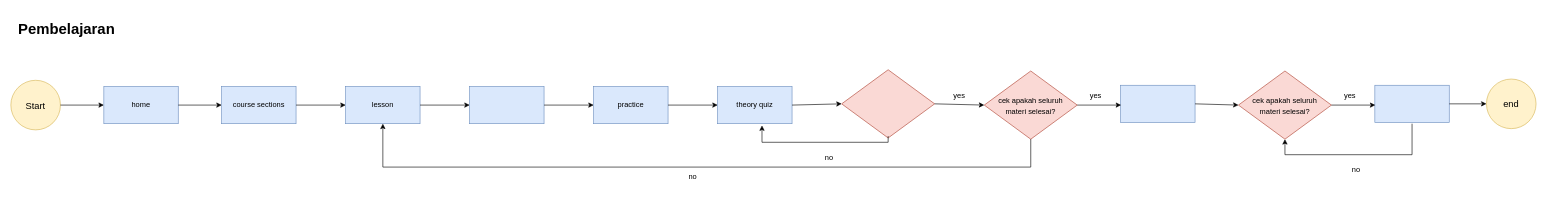
Some shapes in this 1547 by 197 pixel diagram are drawn without their labels. Here are the shapes that lost their labels. From the top down, the box of each, then its label:
(469, 86, 544, 124): materi video/teks
(841, 69, 935, 138): cek apakah nilai tidak dibawah minimum
(1120, 85, 1195, 122): end of module project
(1374, 85, 1449, 122): sertifikat
